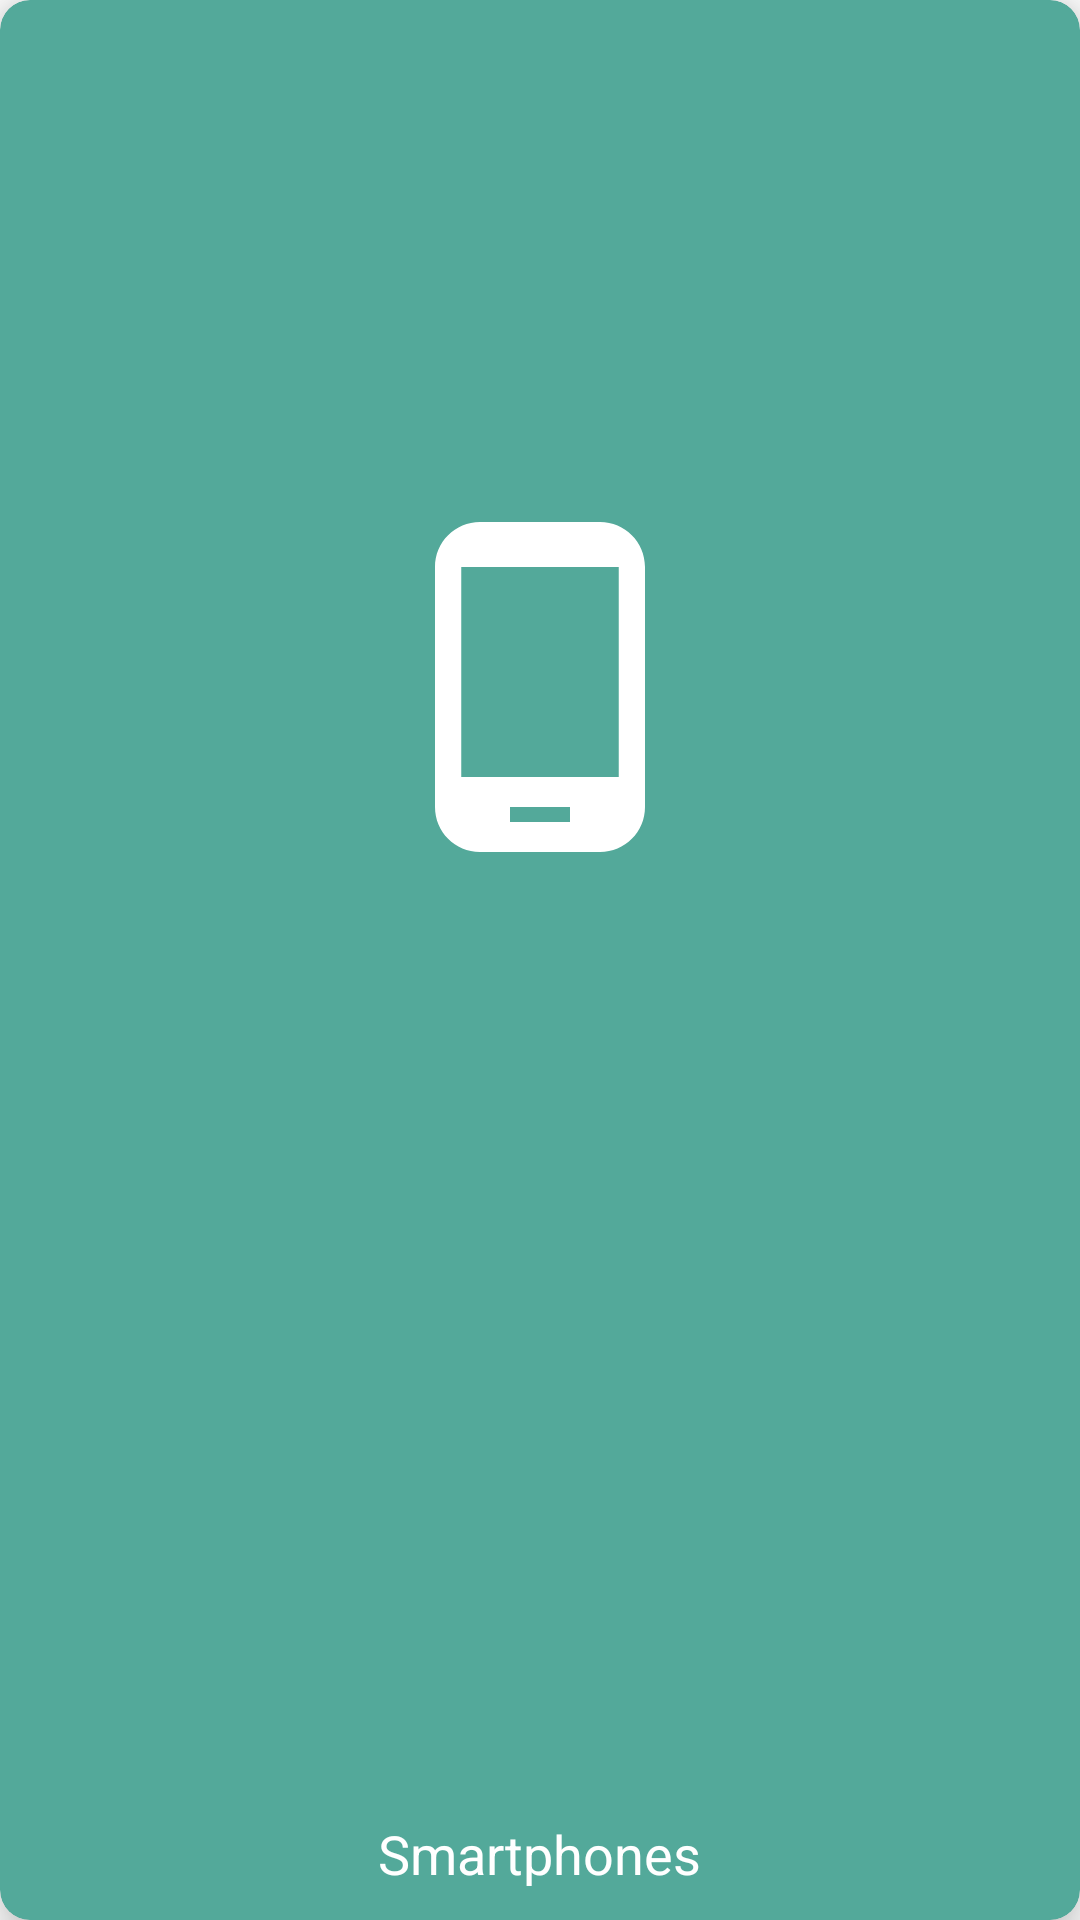

Screen size 1080×1920. Icon name, then its box in pixels as detection(x1, y1, x2, y2):
phone: detection(435, 522, 645, 852)
